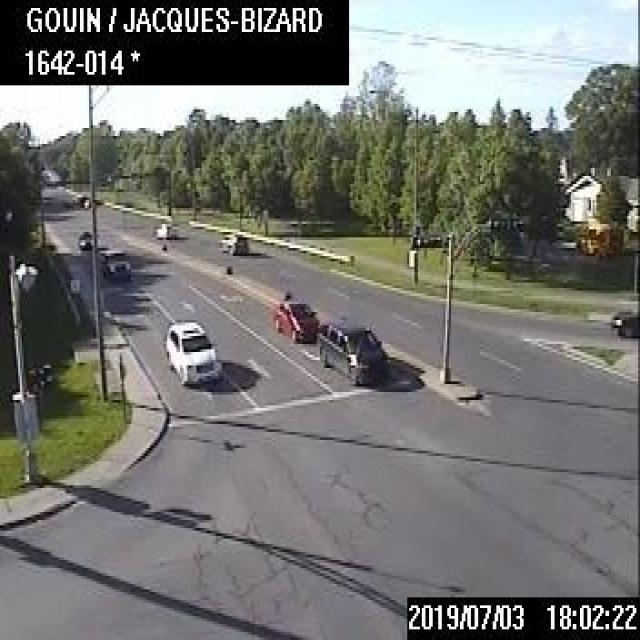bus: (575, 223, 621, 258)
vehicle: (316, 318, 387, 385), (163, 319, 220, 384), (273, 298, 319, 340), (98, 248, 129, 279), (609, 307, 638, 336), (218, 231, 247, 253), (155, 222, 175, 236), (76, 230, 91, 248), (72, 192, 89, 207)
